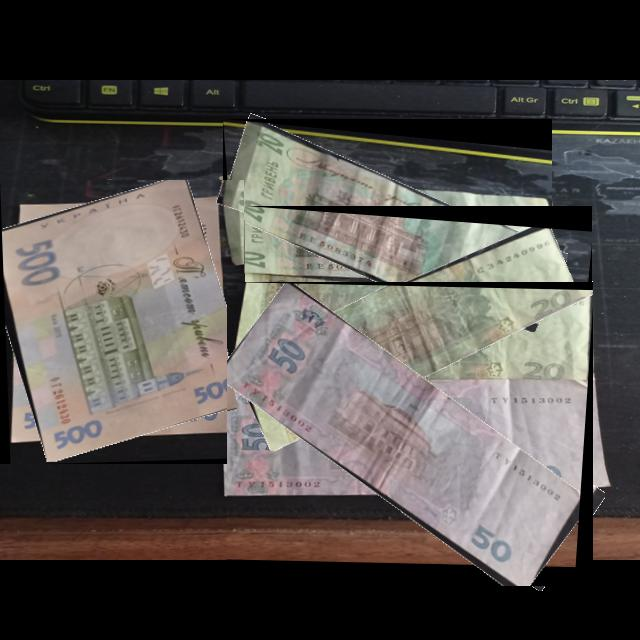20uah: (245, 224, 588, 451), (229, 121, 553, 315)
500uah: (1, 180, 245, 465)
50uah: (227, 284, 584, 587)
